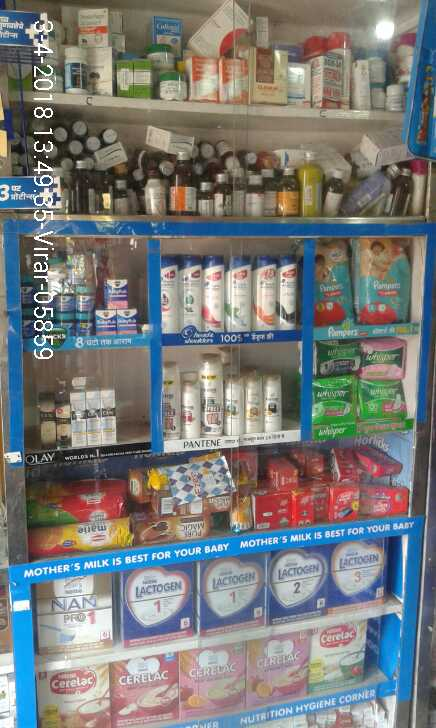vicks: (21, 253, 96, 337), (96, 274, 142, 337)
